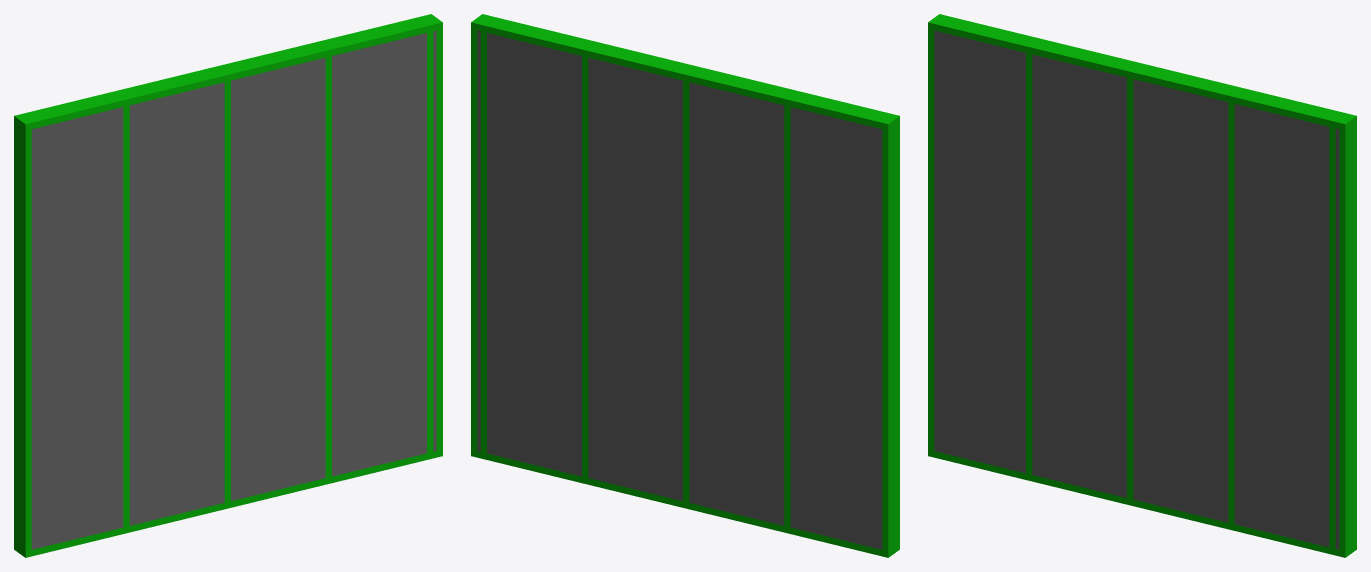
The model's file is result.glb.
3 views of the same model, side by side, from view 1: azimuth 30°, elevation 25°; view 2: azimuth 150°, elevation 25°; view 3: azimuth 330°, elevation 25° (orthographic).
Visible parts, largest first — view 1: 20b2bc88-95e1-4342-98ba-c35b1e29fd1b__undefined, d162fb92-4a6f-49cf-84be-ddd4bae4089a__undefined, 08be0b3c-6cb2-4077-8f41-254cdf7c5f36__undefined, 5eeb85ad-c86f-45c2-b11e-32a8308bd53c__undefined, 14466b81-d6ea-441f-a60a-3606d9343759__undefined, 0ad3a743-d3d3-4ec8-894e-f53cde13b390__undefined, 8fc4dccd-461b-415b-a94d-71be35570616__undefined, 2c00fbd3-3a5b-4b1b-81ba-601cd9bba4fd__undefined, 41e6e363-5322-40fb-a76c-525cfb5a2fb2__undefined, a739f86d-86cf-4af6-a3f9-d92910cb5c69__undefined, b4e0a577-aaaf-4558-99ce-4d95a0cd0ff3__undefined, 6a7b1bbf-5154-4630-b935-3859062287bf__undefined (+1 smaller); view 2: 20b2bc88-95e1-4342-98ba-c35b1e29fd1b__undefined, d162fb92-4a6f-49cf-84be-ddd4bae4089a__undefined, 08be0b3c-6cb2-4077-8f41-254cdf7c5f36__undefined, 5eeb85ad-c86f-45c2-b11e-32a8308bd53c__undefined, 14466b81-d6ea-441f-a60a-3606d9343759__undefined, 0ad3a743-d3d3-4ec8-894e-f53cde13b390__undefined, 8fc4dccd-461b-415b-a94d-71be35570616__undefined, 2c00fbd3-3a5b-4b1b-81ba-601cd9bba4fd__undefined, 41e6e363-5322-40fb-a76c-525cfb5a2fb2__undefined, a739f86d-86cf-4af6-a3f9-d92910cb5c69__undefined, b4e0a577-aaaf-4558-99ce-4d95a0cd0ff3__undefined, 6a7b1bbf-5154-4630-b935-3859062287bf__undefined (+1 smaller); view 3: 08be0b3c-6cb2-4077-8f41-254cdf7c5f36__undefined, d162fb92-4a6f-49cf-84be-ddd4bae4089a__undefined, 20b2bc88-95e1-4342-98ba-c35b1e29fd1b__undefined, 5eeb85ad-c86f-45c2-b11e-32a8308bd53c__undefined, 14466b81-d6ea-441f-a60a-3606d9343759__undefined, b4e0a577-aaaf-4558-99ce-4d95a0cd0ff3__undefined, 8fc4dccd-461b-415b-a94d-71be35570616__undefined, a739f86d-86cf-4af6-a3f9-d92910cb5c69__undefined, 6a7b1bbf-5154-4630-b935-3859062287bf__undefined, 2c00fbd3-3a5b-4b1b-81ba-601cd9bba4fd__undefined, 41e6e363-5322-40fb-a76c-525cfb5a2fb2__undefined, 0ad3a743-d3d3-4ec8-894e-f53cde13b390__undefined (+1 smaller).
Part boxes in pixels (x1,y1,x2,y2): 20b2bc88-95e1-4342-98ba-c35b1e29fd1b__undefined: (129, 82, 224, 525); d162fb92-4a6f-49cf-84be-ddd4bae4089a__undefined: (332, 33, 426, 476); 08be0b3c-6cb2-4077-8f41-254cdf7c5f36__undefined: (231, 57, 325, 500); 5eeb85ad-c86f-45c2-b11e-32a8308bd53c__undefined: (31, 107, 123, 549); 14466b81-d6ea-441f-a60a-3606d9343759__undefined: (14, 14, 442, 130); 0ad3a743-d3d3-4ec8-894e-f53cde13b390__undefined: (14, 122, 31, 551); 8fc4dccd-461b-415b-a94d-71be35570616__undefined: (14, 449, 442, 557); 2c00fbd3-3a5b-4b1b-81ba-601cd9bba4fd__undefined: (123, 105, 129, 527); 41e6e363-5322-40fb-a76c-525cfb5a2fb2__undefined: (427, 31, 433, 453); a739f86d-86cf-4af6-a3f9-d92910cb5c69__undefined: (224, 81, 230, 502); b4e0a577-aaaf-4558-99ce-4d95a0cd0ff3__undefined: (436, 29, 442, 450); 6a7b1bbf-5154-4630-b935-3859062287bf__undefined: (325, 56, 331, 477); 20b2bc88-95e1-4342-98ba-c35b1e29fd1b__undefined: (689, 82, 784, 525); d162fb92-4a6f-49cf-84be-ddd4bae4089a__undefined: (487, 33, 581, 476); 08be0b3c-6cb2-4077-8f41-254cdf7c5f36__undefined: (588, 57, 682, 500); 5eeb85ad-c86f-45c2-b11e-32a8308bd53c__undefined: (790, 107, 882, 549); 14466b81-d6ea-441f-a60a-3606d9343759__undefined: (471, 14, 899, 130); 0ad3a743-d3d3-4ec8-894e-f53cde13b390__undefined: (882, 122, 899, 551); 8fc4dccd-461b-415b-a94d-71be35570616__undefined: (471, 449, 899, 557); 2c00fbd3-3a5b-4b1b-81ba-601cd9bba4fd__undefined: (784, 105, 790, 527); 41e6e363-5322-40fb-a76c-525cfb5a2fb2__undefined: (480, 31, 486, 453); a739f86d-86cf-4af6-a3f9-d92910cb5c69__undefined: (683, 81, 689, 502); b4e0a577-aaaf-4558-99ce-4d95a0cd0ff3__undefined: (471, 29, 477, 450); 6a7b1bbf-5154-4630-b935-3859062287bf__undefined: (582, 56, 588, 477); 08be0b3c-6cb2-4077-8f41-254cdf7c5f36__undefined: (1133, 79, 1228, 522); d162fb92-4a6f-49cf-84be-ddd4bae4089a__undefined: (1234, 104, 1329, 547); 20b2bc88-95e1-4342-98ba-c35b1e29fd1b__undefined: (1032, 54, 1126, 497); 5eeb85ad-c86f-45c2-b11e-32a8308bd53c__undefined: (934, 30, 1025, 473); 14466b81-d6ea-441f-a60a-3606d9343759__undefined: (928, 14, 1356, 130); b4e0a577-aaaf-4558-99ce-4d95a0cd0ff3__undefined: (1339, 122, 1356, 551); 8fc4dccd-461b-415b-a94d-71be35570616__undefined: (928, 449, 1356, 557); a739f86d-86cf-4af6-a3f9-d92910cb5c69__undefined: (1127, 77, 1133, 499); 6a7b1bbf-5154-4630-b935-3859062287bf__undefined: (1228, 102, 1234, 524); 2c00fbd3-3a5b-4b1b-81ba-601cd9bba4fd__undefined: (1026, 53, 1032, 474); 41e6e363-5322-40fb-a76c-525cfb5a2fb2__undefined: (1329, 127, 1335, 548); 0ad3a743-d3d3-4ec8-894e-f53cde13b390__undefined: (928, 29, 934, 450).
Size of the model in its own units: 2518 by 2500 by 120.
